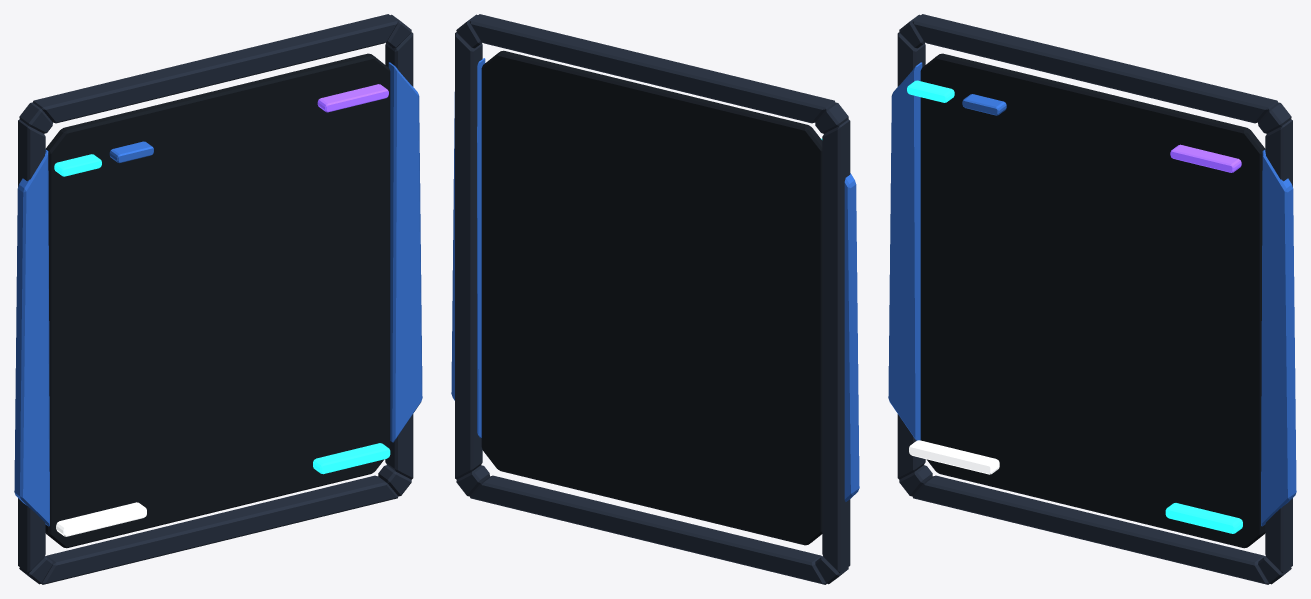
Rendered from portrait-card.glb.
The picture shows the model from 3 angles, left to right: view 1: azimuth 30°, elevation 25°; view 2: azimuth 150°, elevation 25°; view 3: azimuth 330°, elevation 25°; orthographic projection.
Visible parts, largest first — view 1: portrait-card_PanelMaterial, portrait-card_SystemMaterial, portrait-card_CoreMaterial, portrait-card_SignalMaterial, portrait-card_LabelMaterial, portrait-card_AccentMaterial; view 2: portrait-card_PanelMaterial, portrait-card_SystemMaterial, portrait-card_CoreMaterial; view 3: portrait-card_PanelMaterial, portrait-card_SystemMaterial, portrait-card_CoreMaterial, portrait-card_SignalMaterial, portrait-card_LabelMaterial, portrait-card_AccentMaterial.
Part boxes in pixels (left/top/right/bottom): portrait-card_PanelMaterial: left=45, top=53, right=390, bottom=548; portrait-card_SystemMaterial: left=18, top=14, right=413, bottom=584; portrait-card_CoreMaterial: left=14, top=62, right=422, bottom=526; portrait-card_SignalMaterial: left=54, top=154, right=390, bottom=474; portrait-card_LabelMaterial: left=56, top=502, right=146, bottom=536; portrait-card_AccentMaterial: left=317, top=84, right=388, bottom=112; portrait-card_PanelMaterial: left=481, top=50, right=822, bottom=545; portrait-card_SystemMaterial: left=455, top=14, right=850, bottom=584; portrait-card_CoreMaterial: left=451, top=58, right=859, bottom=501; portrait-card_PanelMaterial: left=920, top=53, right=1265, bottom=548; portrait-card_SystemMaterial: left=897, top=14, right=1292, bottom=584; portrait-card_CoreMaterial: left=888, top=62, right=1296, bottom=526; portrait-card_SignalMaterial: left=907, top=80, right=1242, bottom=533; portrait-card_LabelMaterial: left=909, top=440, right=999, bottom=474; portrait-card_AccentMaterial: left=1170, top=144, right=1241, bottom=172.
Size of the model in its own units: 2.4 by 2.72 by 0.245.
